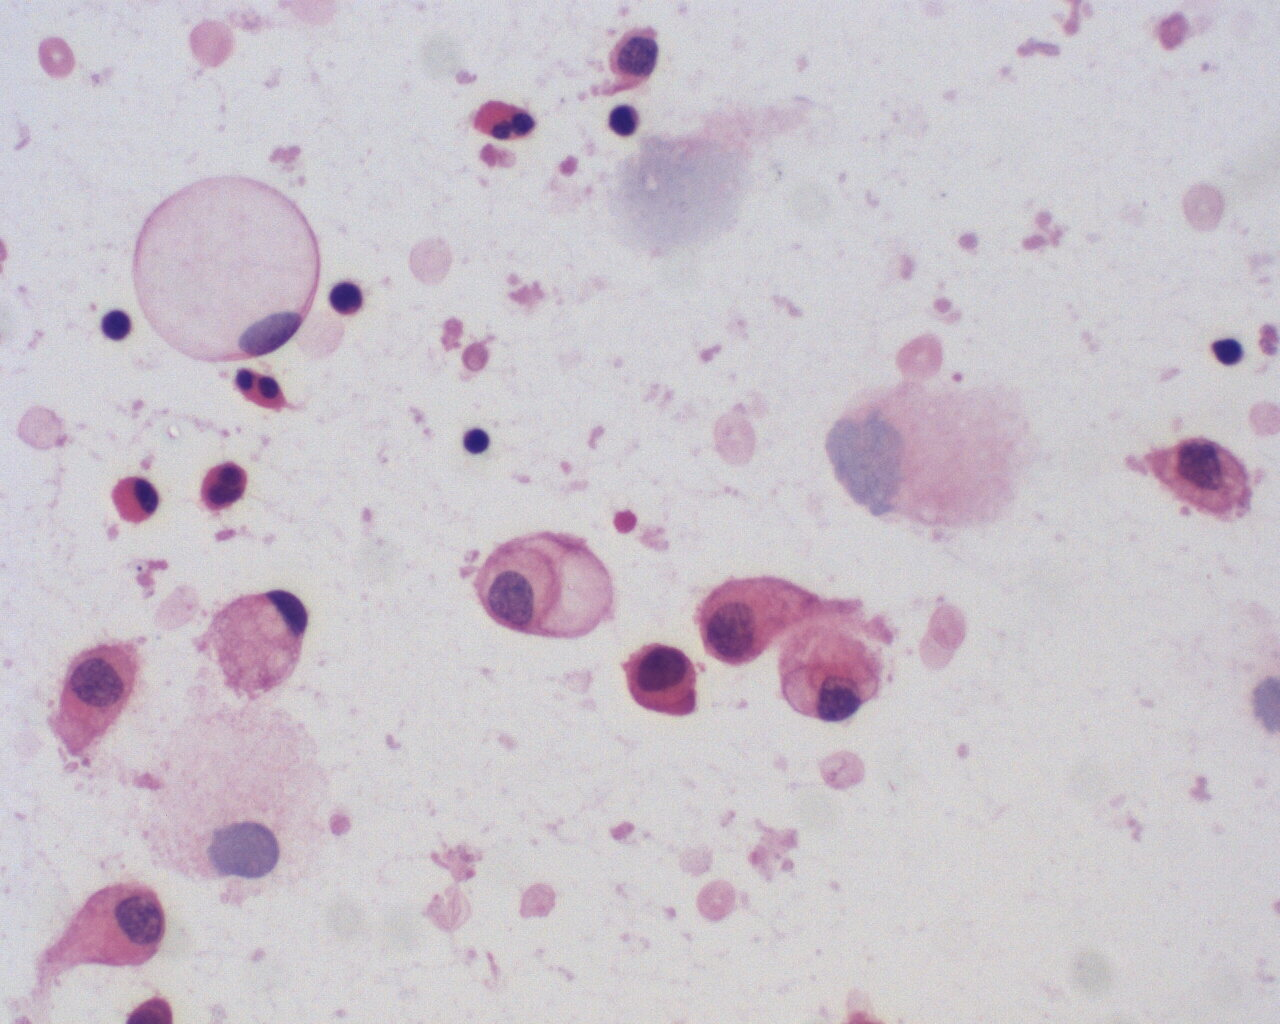histo: (127, 167, 328, 362), (200, 584, 318, 700)
lymph: (320, 270, 370, 321), (603, 99, 645, 140), (1207, 333, 1249, 372), (457, 421, 491, 459)
meso: (694, 571, 775, 667), (622, 642, 705, 723)
